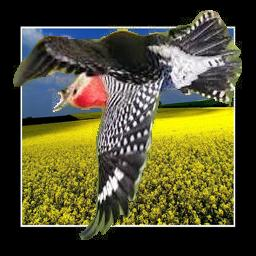Woodpecker: (14, 10, 243, 240)
